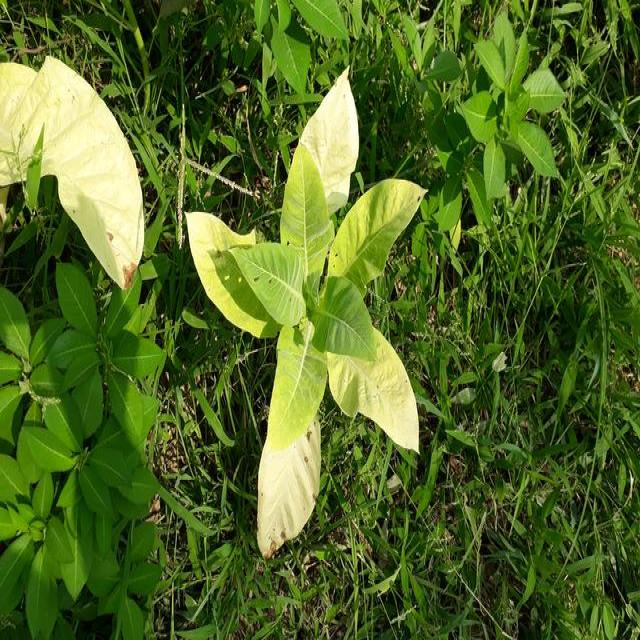crop: (182, 63, 426, 562)
